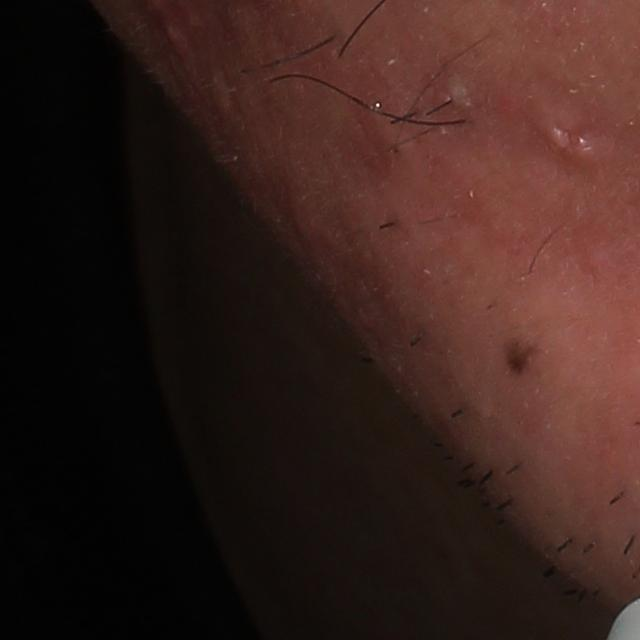hypertrophic_scar: (527, 92, 615, 175), (445, 73, 474, 116)
nevus: (497, 329, 546, 384)
